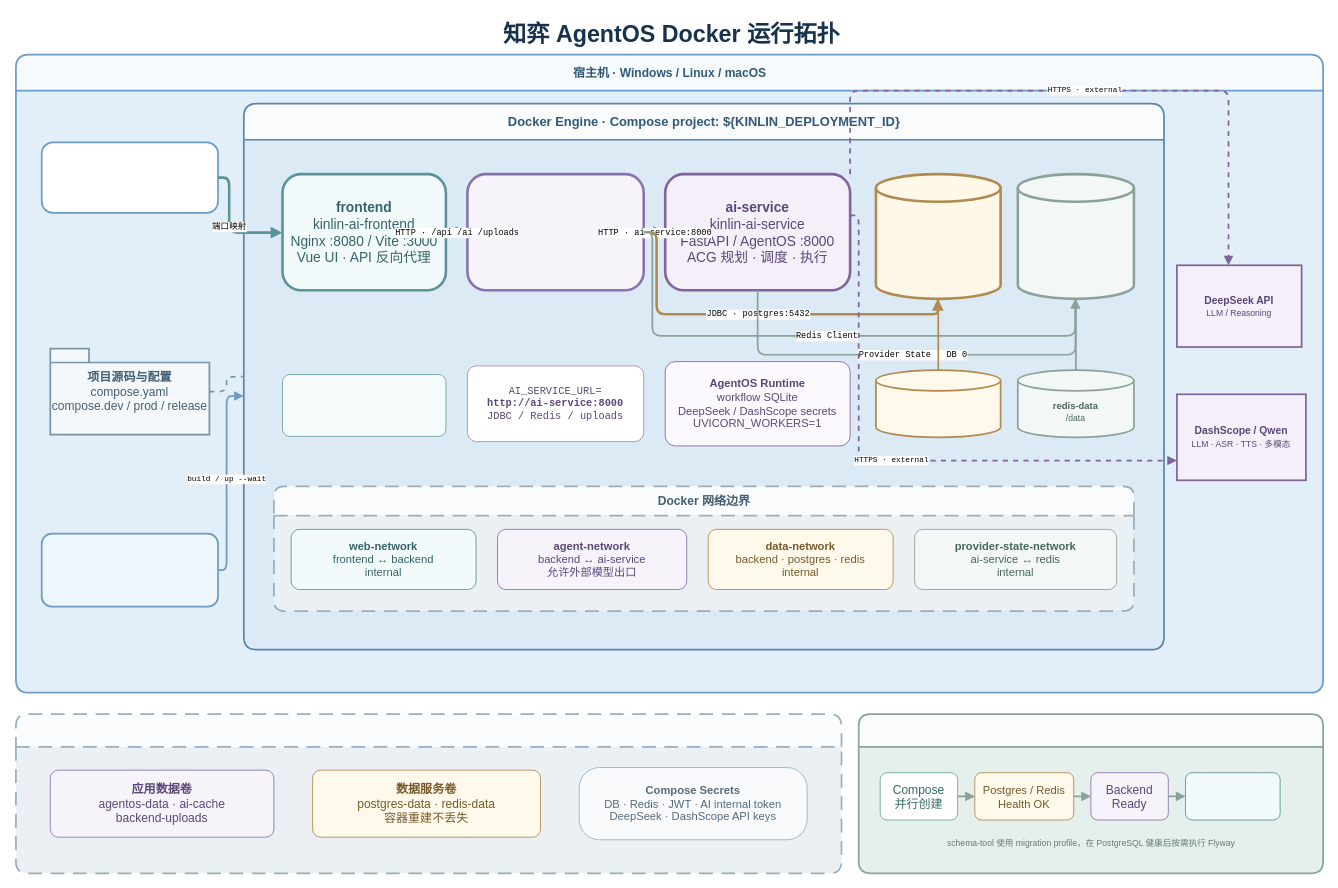
The diagram is 1338 pixels wide and 888 high, and some of its shapes have lost their labels. Each missing label, with the box of its shape:
backend kinlin-ai-backend Spring Boot :8080 鉴权 · 业务 API · 文件: (466, 172, 645, 291)
Docker Compose build / pull up -d --wait: (40, 532, 218, 607)
Frontend Health OK: (1185, 772, 1280, 820)
Healthcheck GET 127.0.0.1:8080/health Dev GET localhost:3000: (282, 374, 446, 436)
postgres PostgreSQL 15 :5432（仅内网） 业务主数据: (874, 172, 1001, 300)
postgres-data /var/lib/postgresql/data: (875, 369, 1001, 438)
redis Redis 7 :6379（仅内网） 缓存 · Provider State: (1016, 172, 1135, 300)
启动就绪链: (857, 713, 1324, 874)
持久化卷与安全配置: (15, 713, 842, 874)
用户浏览器 Prod 127.0.0.1:8080 Dev 127.0.0.1:3000: (40, 141, 218, 213)
